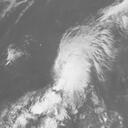cyclone: (56, 35, 89, 92)
